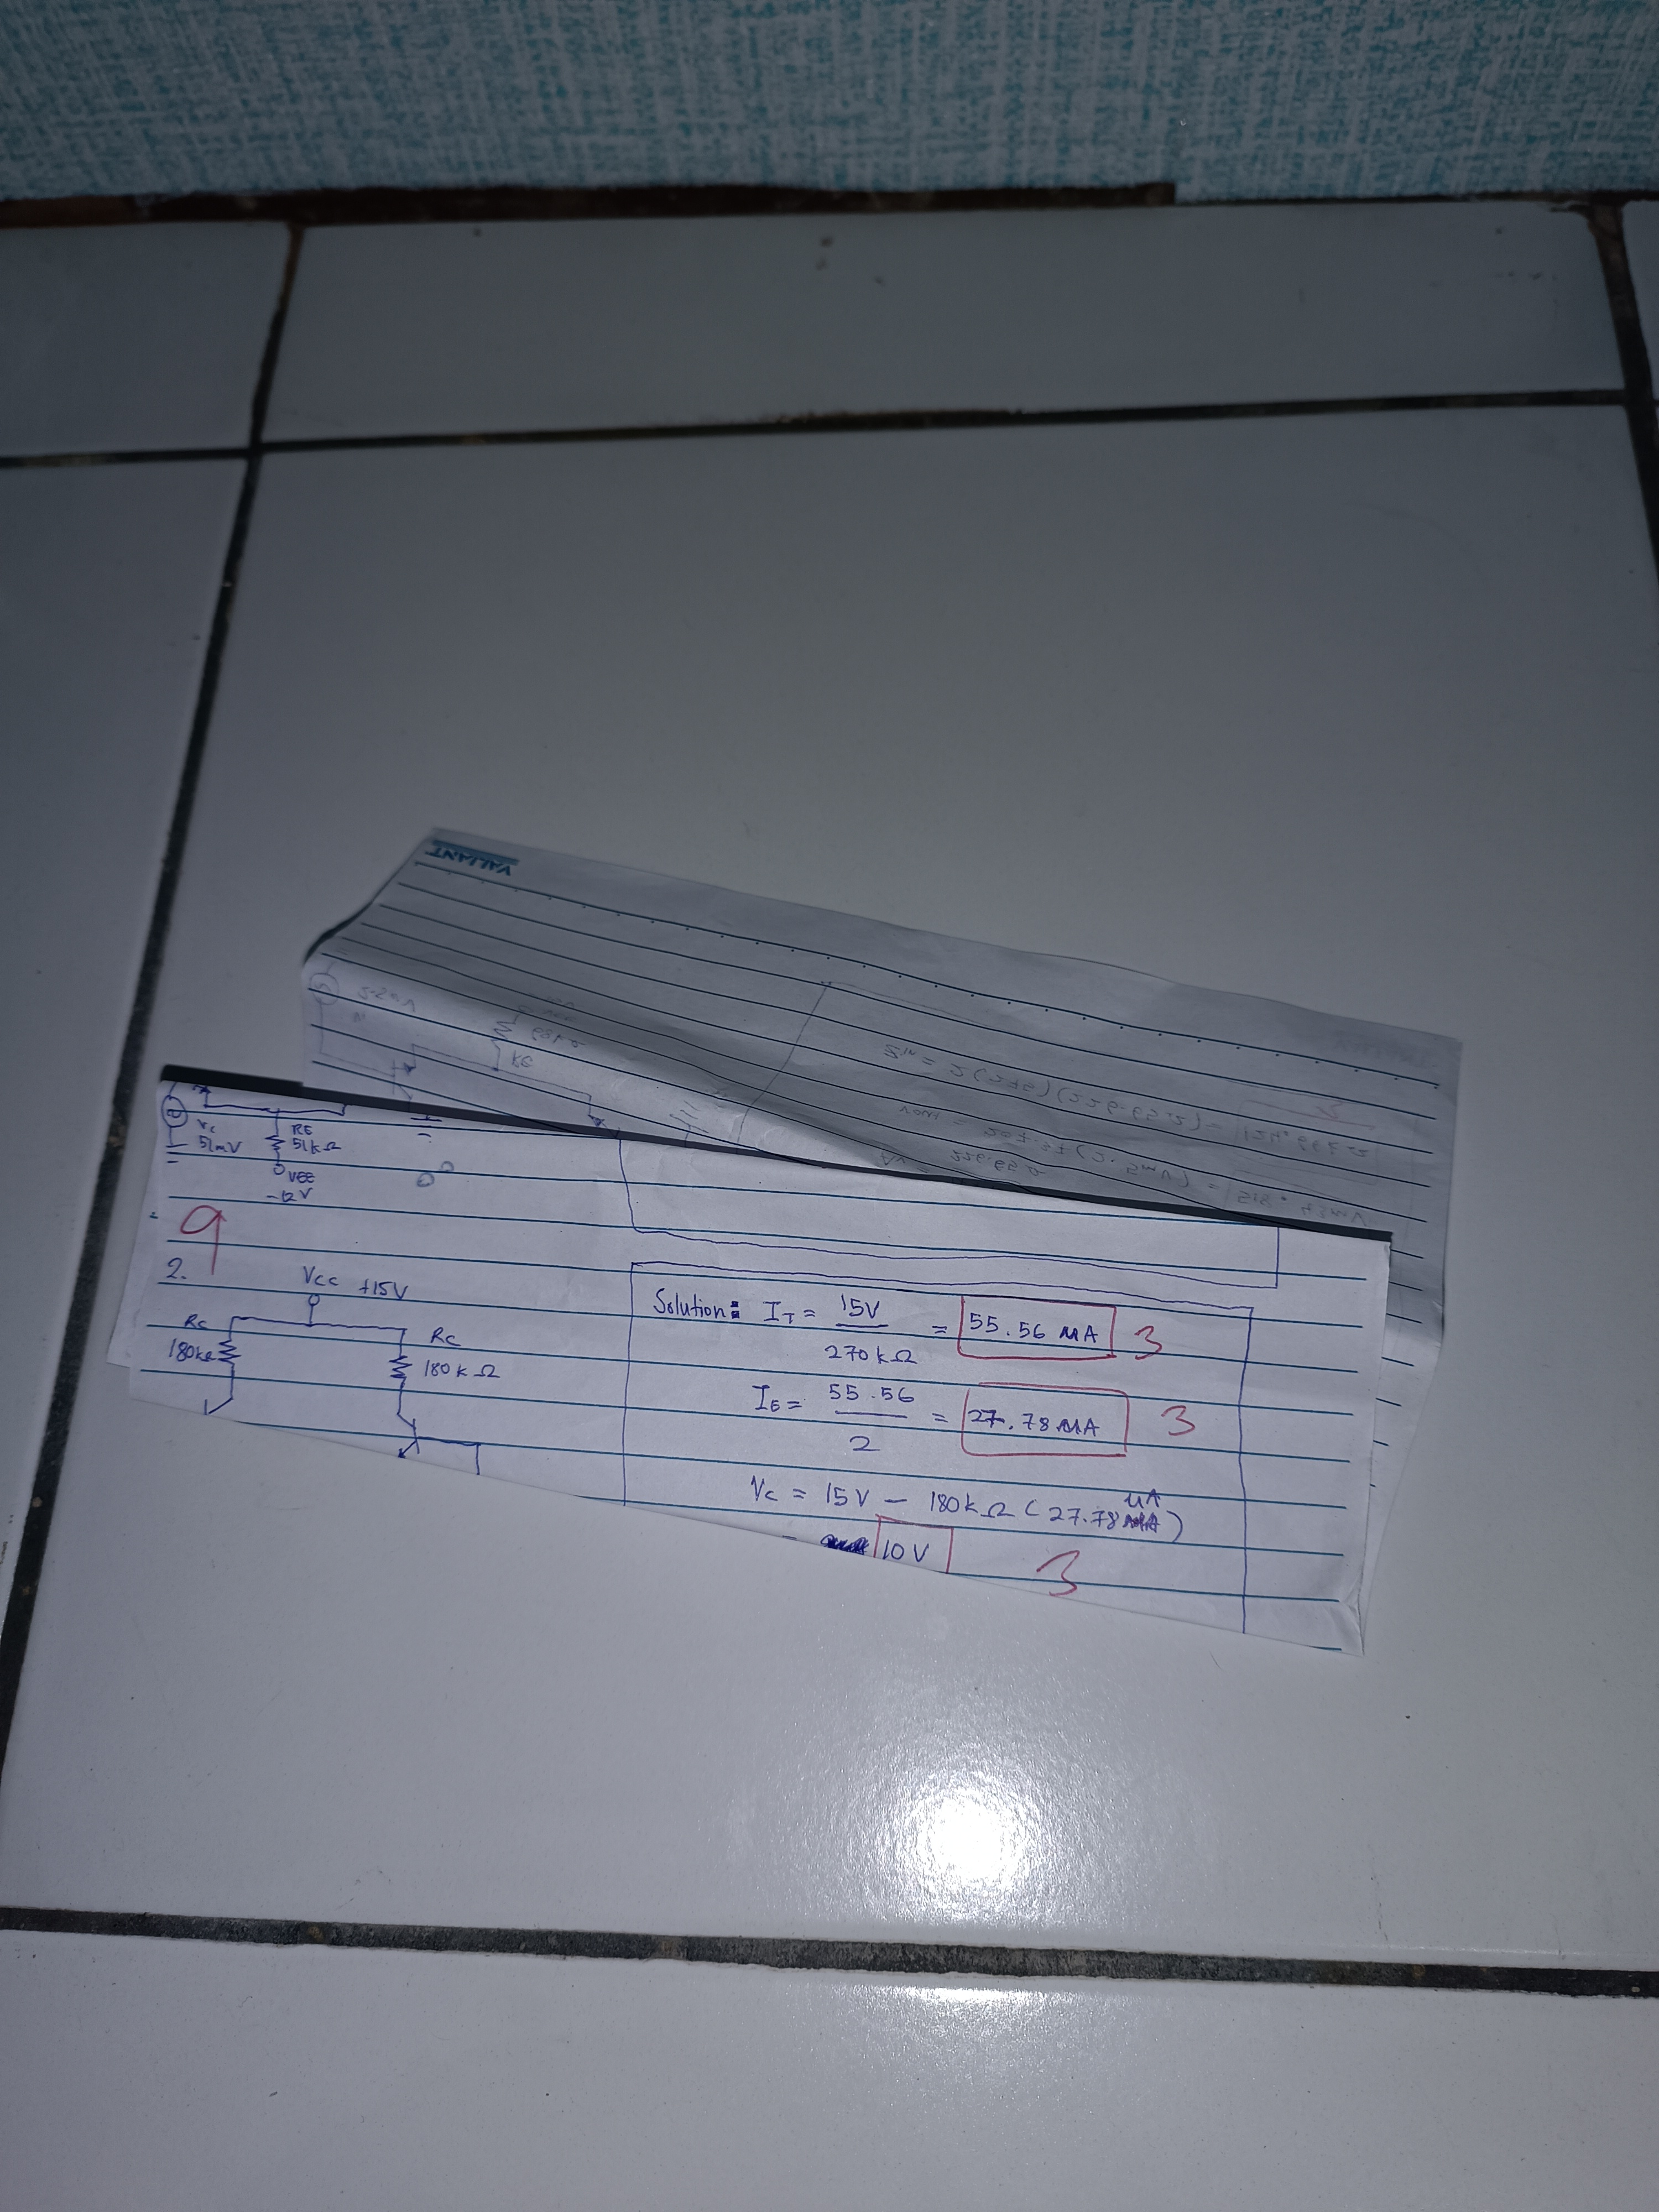Paper: (110, 773, 1500, 1667)
